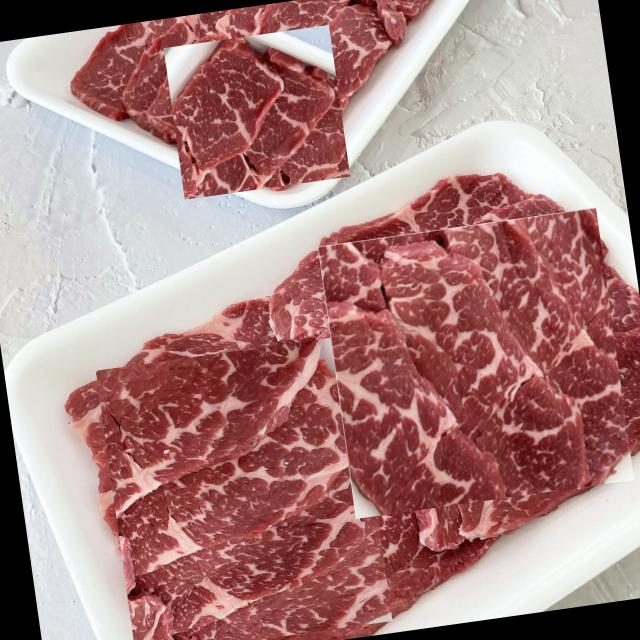beef: (319, 206, 633, 520), (95, 334, 392, 640), (163, 24, 351, 200)
